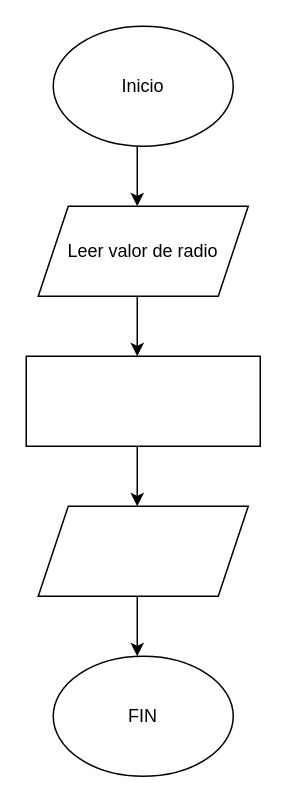
Some shapes in this 287 by 803 pixel diagram are drawn without their labels. Each missing label, with the centre of its shape:
"area_circulo=π*radio^2" belongs at (x=142, y=400).
"Mostrar area" belongs at (x=142, y=550).
